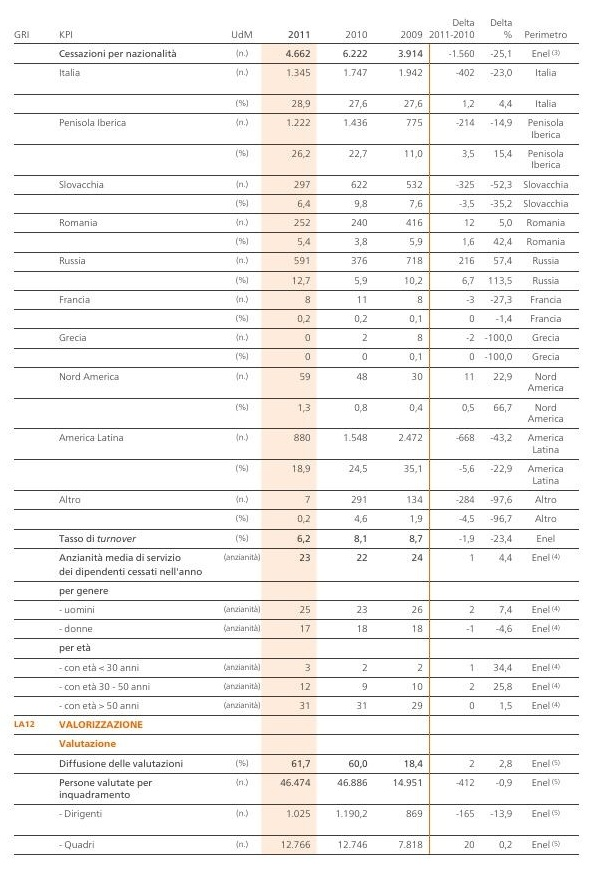table: (0, 0, 600, 869)
